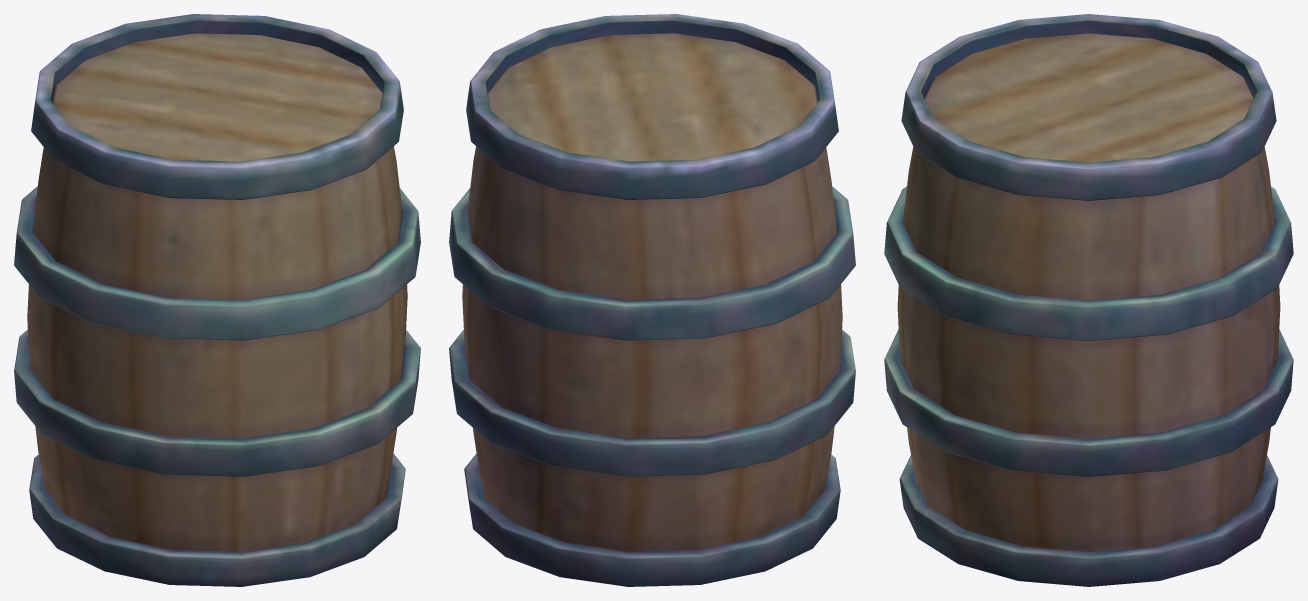
The model's file is tongzi.FBX.
3 renders of one model, left to right at view 1: azimuth 30°, elevation 25°; view 2: azimuth 150°, elevation 25°; view 3: azimuth 270°, elevation 25°, orthographic.
Parts seen in each view (by area): view 1: Object001; view 2: Object001; view 3: Object001.
Part boxes in pixels (x1=…): Object001: x1=14, y1=14, x2=420, y2=586; Object001: x1=449, y1=14, x2=855, y2=586; Object001: x1=884, y1=14, x2=1293, y2=586.
Bounding box in the file's own units: 80.96 × 91.58 × 80.96.
